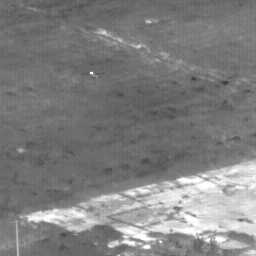aircraft: (90, 72, 92, 74)
